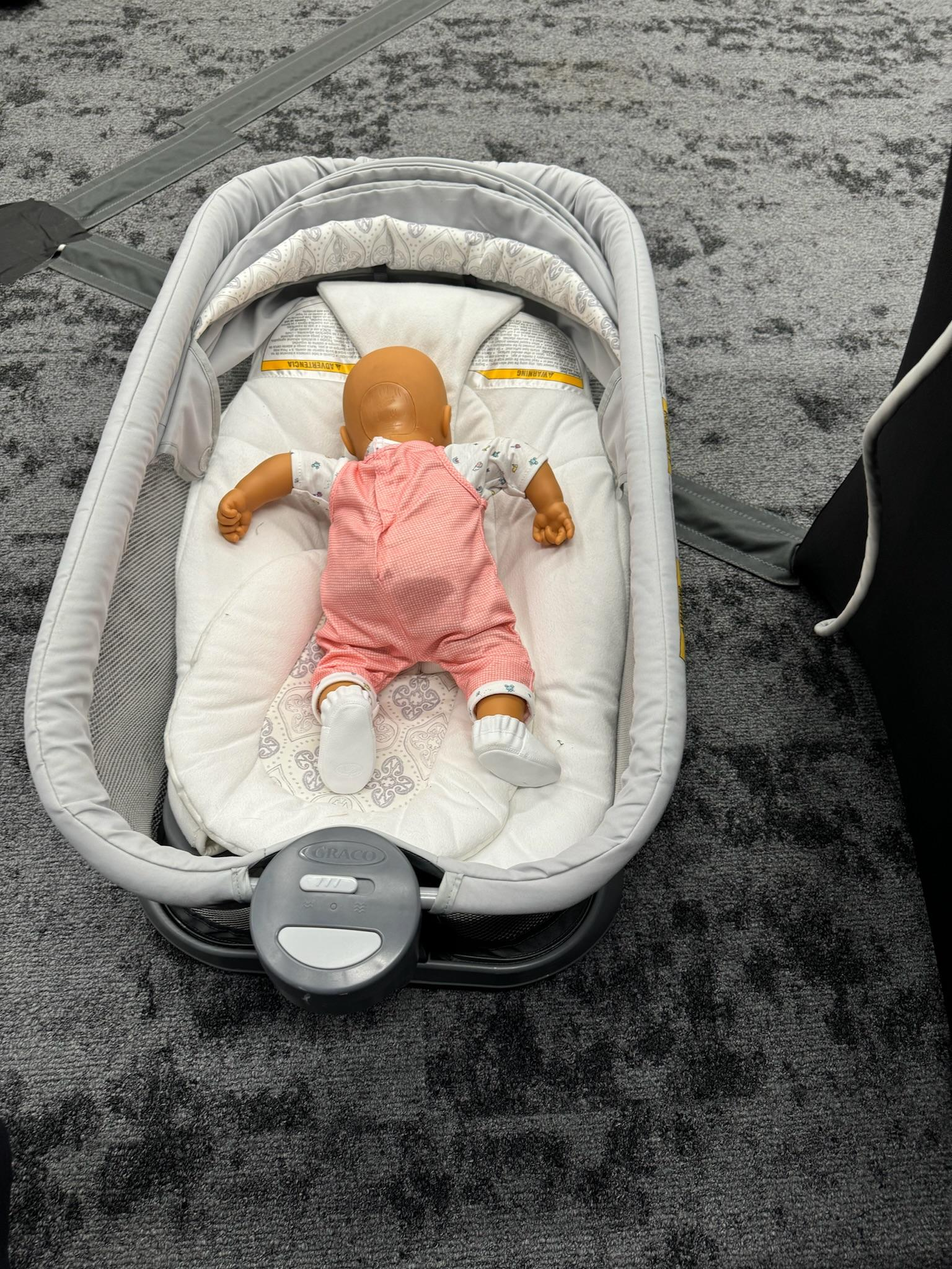baby: (221, 340, 584, 802)
